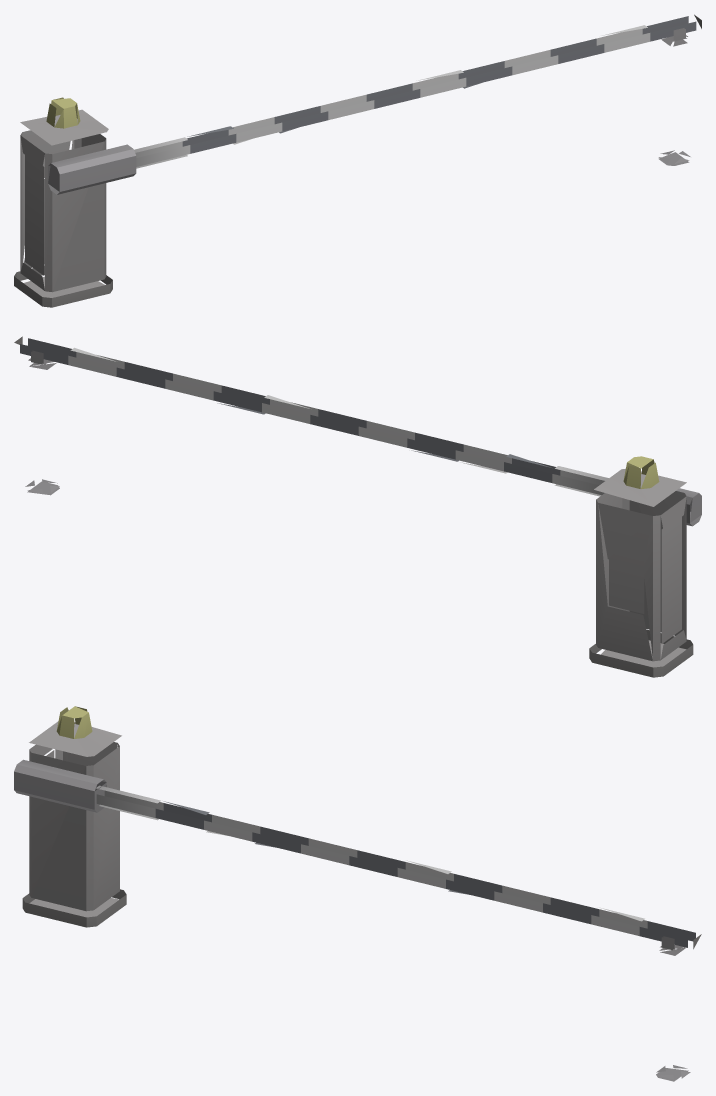
Rendered from barrier.lod.glb.
3 views of the same model, one above another, from view 1: azimuth 30°, elevation 25°; view 2: azimuth 150°, elevation 25°; view 3: azimuth 330°, elevation 25° (orthographic). The views are drawn at different scales.
Visible parts, largest first — view 1: barrier; view 2: barrier; view 3: barrier.
Boxes of the visible parts, left/top/right/bottom form: barrier: left=14, top=14, right=701, bottom=307; barrier: left=14, top=336, right=701, bottom=677; barrier: left=14, top=706, right=701, bottom=1081.
Bounding box in the file's own units: 4.23 × 1.15 × 0.519.
